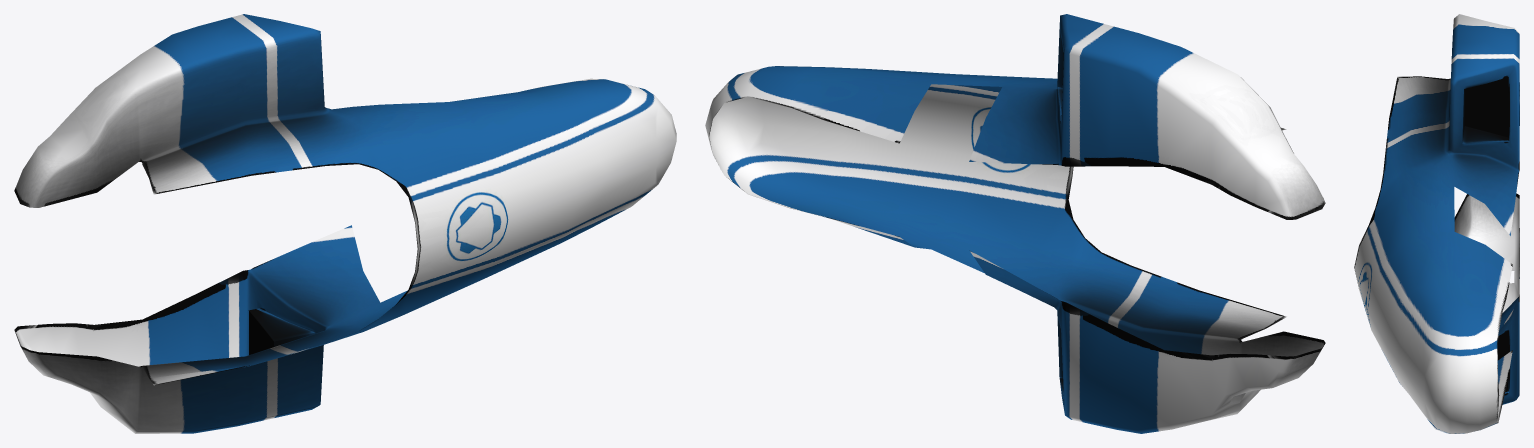
Rendered from Body.obj.
3 renders of one model, left to right at view 1: azimuth 30°, elevation 25°; view 2: azimuth 150°, elevation 25°; view 3: azimuth 270°, elevation 25°, orthographic. The views are drawn at different scales.
Visible parts, largest first — view 1: FSAE_Body; view 2: FSAE_Body; view 3: FSAE_Body.
Boxes of the visible parts, x1,y1,x2,y2 form: FSAE_Body: (14, 14, 676, 433); FSAE_Body: (705, 14, 1325, 433); FSAE_Body: (1354, 14, 1519, 433).
Size of the model in its own units: 2.29 by 1.31 by 0.5762.
Materials: 1 (1 with a texture image).
